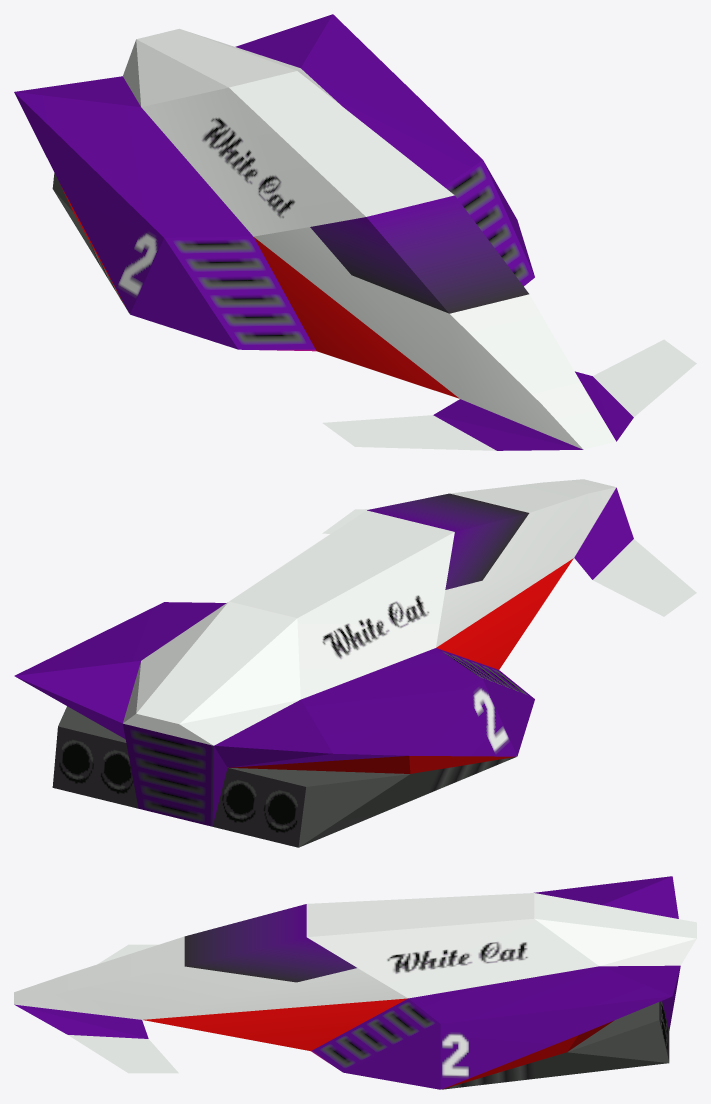
3 views of the same model, one above another, from view 1: azimuth 30°, elevation 25°; view 2: azimuth 150°, elevation 25°; view 3: azimuth 270°, elevation 25° (orthographic). The views are drawn at different scales.
Visible parts, largest first — view 1: Joint_0_Object_0; view 2: Joint_0_Object_0; view 3: Joint_0_Object_0.
Part boxes in pixels (x1,y1,x2,y2): Joint_0_Object_0: [14, 14, 696, 450]; Joint_0_Object_0: [14, 479, 696, 847]; Joint_0_Object_0: [14, 876, 696, 1089].
Bounding box in the file's own units: 30.59 × 10.84 × 60.48.
Materials: 1 (1 with a texture image).
